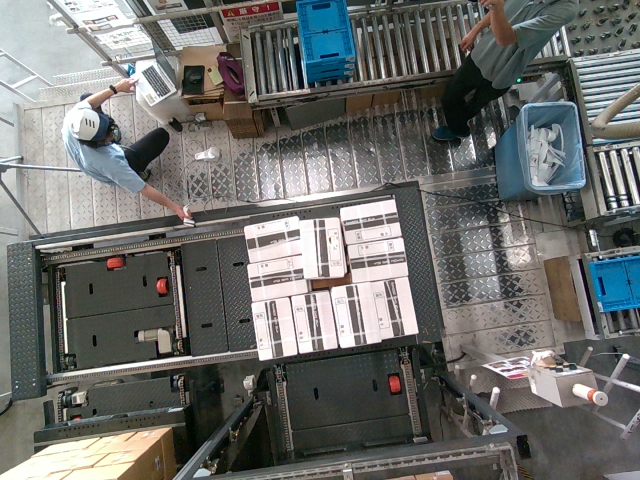box: (245, 303, 299, 360), (289, 293, 341, 352), (297, 216, 347, 277), (332, 286, 382, 344), (347, 240, 410, 283), (244, 260, 309, 301), (238, 216, 301, 258), (335, 200, 404, 238), (372, 279, 416, 337)
